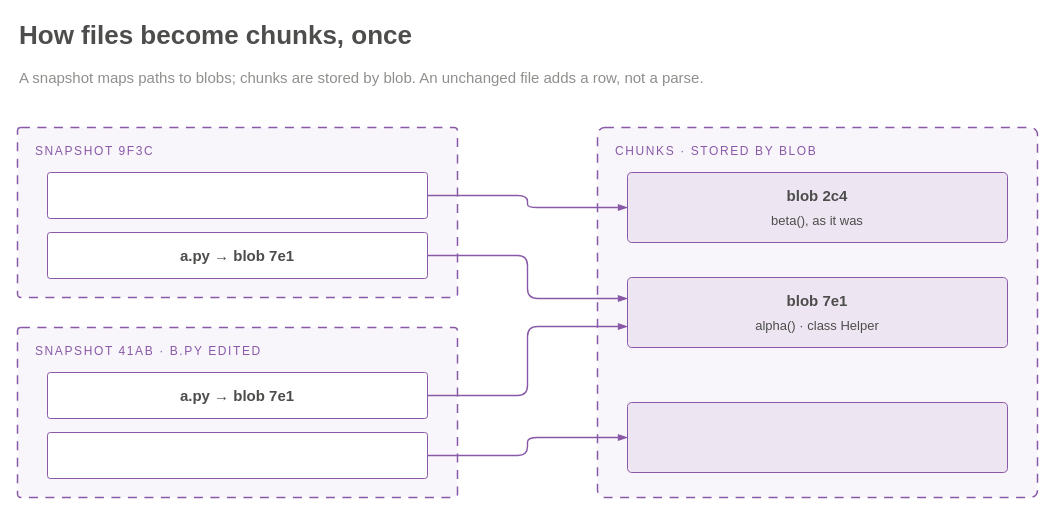
This 1056x515 diagram has some shape labels left out. The centre of each missing label's shape, as x and y in pixels:
"b.py → blob 2c4" goes at (237,195).
"b.py → blob d90" goes at (237,455).
"blob d90 beta(), edited" goes at (817,437).
